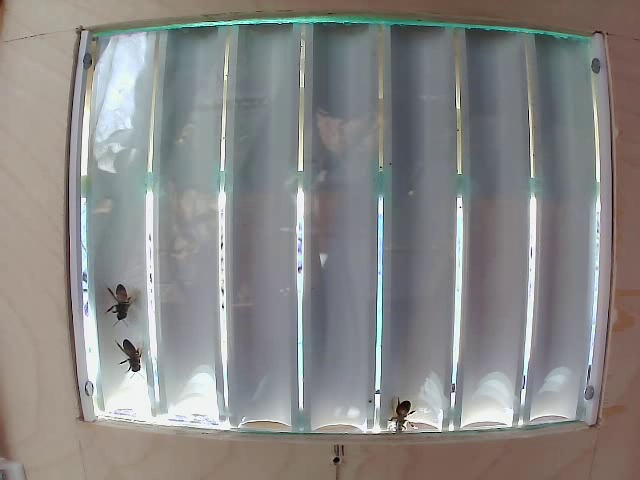bee: (104, 280, 145, 331), (371, 393, 416, 433), (118, 333, 154, 382)
